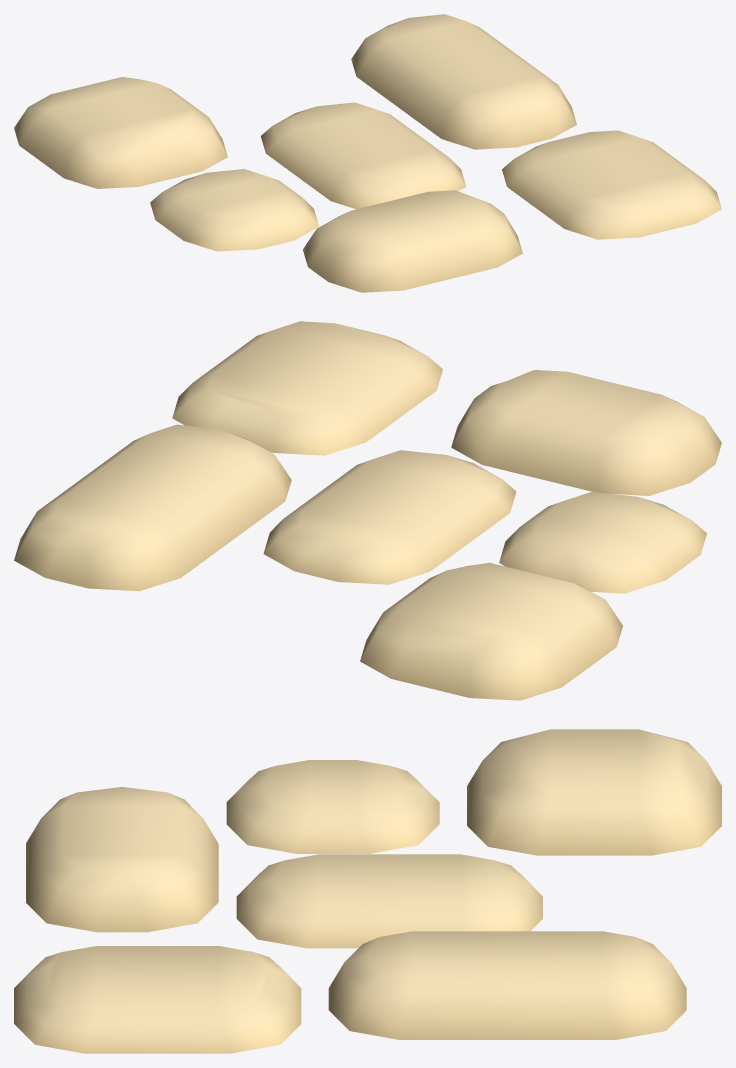
The model's file is Furniture_Floor_1.fbx.
3 renders of one model, top to bottom at view 1: azimuth 30°, elevation 25°; view 2: azimuth 150°, elevation 25°; view 3: azimuth 270°, elevation 25°, orthographic. The views are drawn at different scales.
Parts seen in each view (by area): view 1: Furniture_Floor_1; view 2: Furniture_Floor_1; view 3: Furniture_Floor_1.
Boxes of the visible parts, x1,y1,x2,y2 form: Furniture_Floor_1: (14,14,721,292); Furniture_Floor_1: (14,321,721,700); Furniture_Floor_1: (14,729,721,1053).
Size of the model in its own units: 98.3 by 6.64 by 99.
